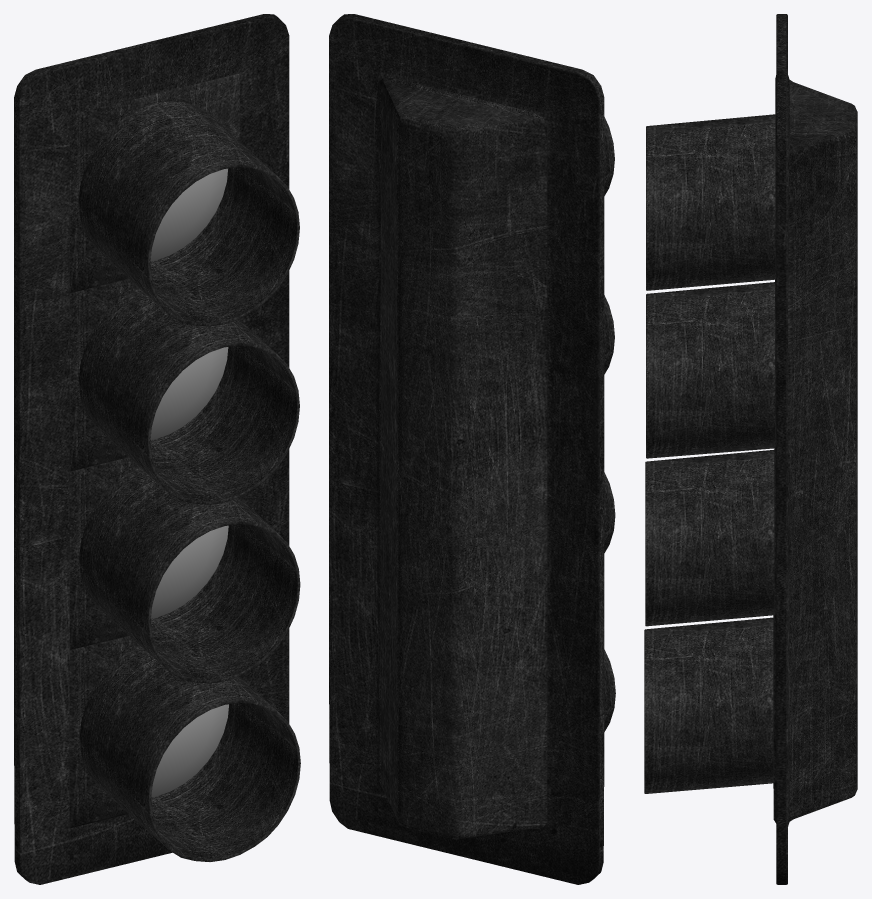
Rendered from TrafficSignalVerticalFullConeBlack4.fbx.
The picture shows the model from 3 angles, left to right: view 1: azimuth 30°, elevation 25°; view 2: azimuth 150°, elevation 25°; view 3: azimuth 270°, elevation 25°; orthographic projection. The views are drawn at different scales.
Parts seen in each view (by area): view 1: Casing, SignalLight1, SignalLight2, SignalLight3, SignalLight0; view 2: Casing; view 3: Casing.
Boxes of the visible parts, x1=… form: Casing: x1=14, y1=14, x2=300, y2=884; SignalLight1: x1=150, y1=347, x2=228, y2=439; SignalLight2: x1=151, y1=525, x2=228, y2=618; SignalLight3: x1=151, y1=704, x2=228, y2=796; SignalLight0: x1=150, y1=168, x2=227, y2=261; Casing: x1=329, y1=14, x2=615, y2=884; Casing: x1=644, y1=14, x2=857, y2=884.
Bounding box in the file's own units: 0.6568 × 1.88 × 0.4767.
